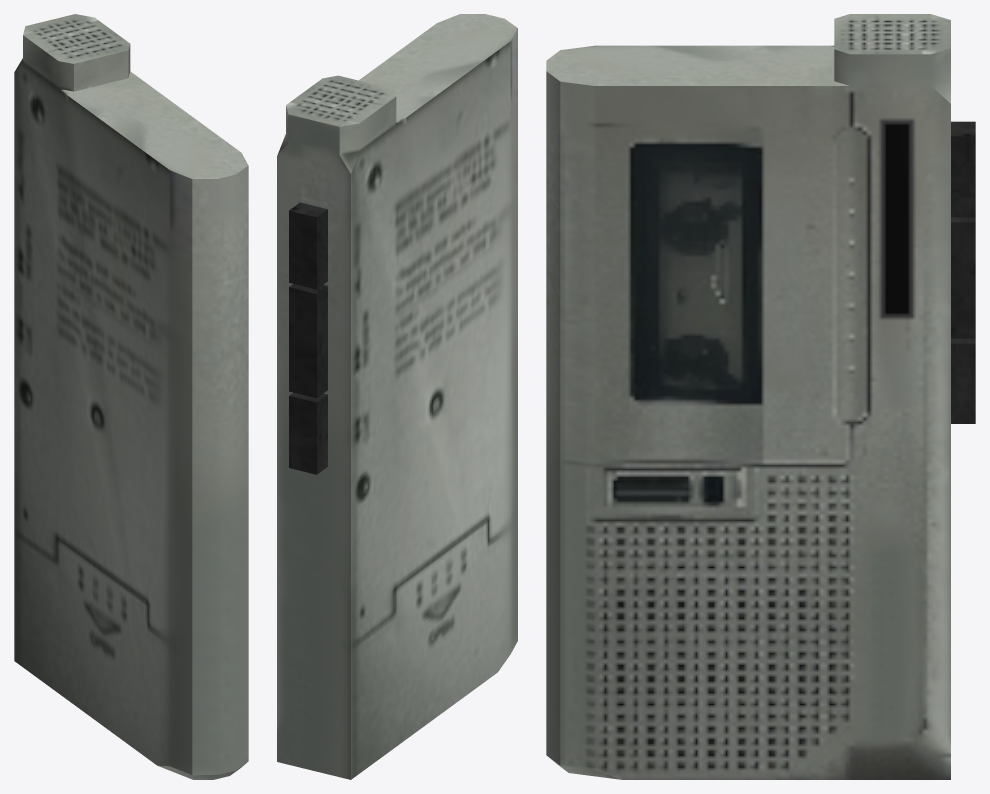
File: Voice_Recorder.fbx
The picture shows the model from 3 angles, left to right: view 1: azimuth 30°, elevation 25°; view 2: azimuth 150°, elevation 25°; view 3: azimuth 270°, elevation 25°; orthographic projection. The views are drawn at different scales.
Visible parts, largest first — view 1: Voice_Recorder; view 2: Voice_Recorder; view 3: Voice_Recorder.
Part boxes in pixels (x1,y1,x2,y2): Voice_Recorder: [14, 14, 248, 779]; Voice_Recorder: [277, 14, 517, 779]; Voice_Recorder: [546, 14, 975, 779].
Size of the model in its own units: 2.94 by 24.77 by 13.28.
